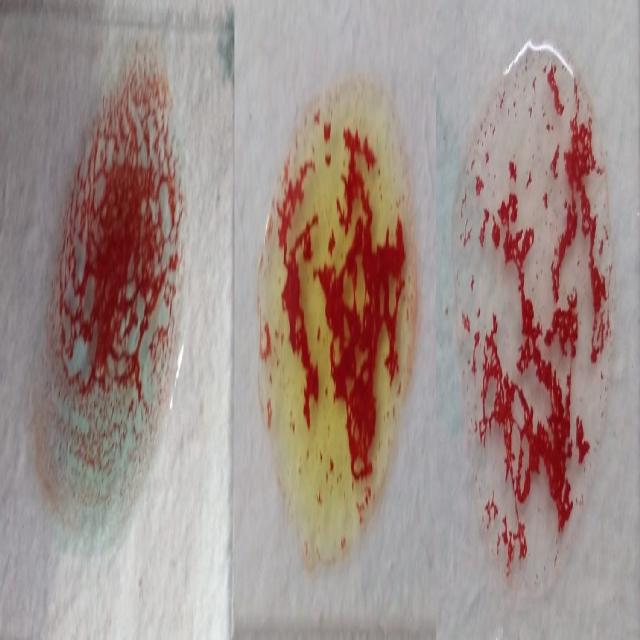A: (42, 60, 182, 538)
B: (264, 67, 413, 568)
D: (456, 32, 612, 604)
